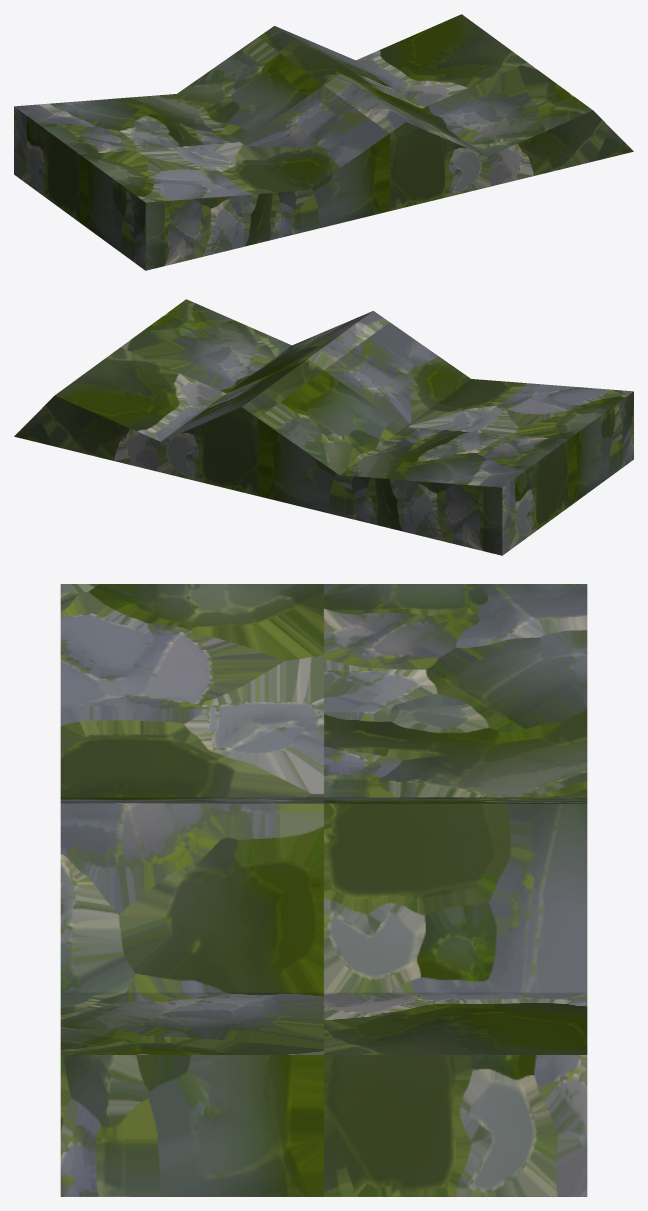
Rendered from Floor_Fractured.glb.
3 renders of one model, top to bottom at view 1: azimuth 30°, elevation 25°; view 2: azimuth 150°, elevation 25°; view 3: azimuth 270°, elevation 25°, orthographic. The views are drawn at different scales.
Visible parts, largest first — view 1: Floor_Fractured; view 2: Floor_Fractured; view 3: Floor_Fractured.
Boxes of the visible parts, x1=… form: Floor_Fractured: x1=14, y1=14, x2=633, y2=270; Floor_Fractured: x1=14, y1=299, x2=633, y2=555; Floor_Fractured: x1=60, y1=584, x2=587, y2=1196.
Bounding box in the file's own units: 3 × 0.5 × 1.4.
Materials: 1 (1 with a texture image).
